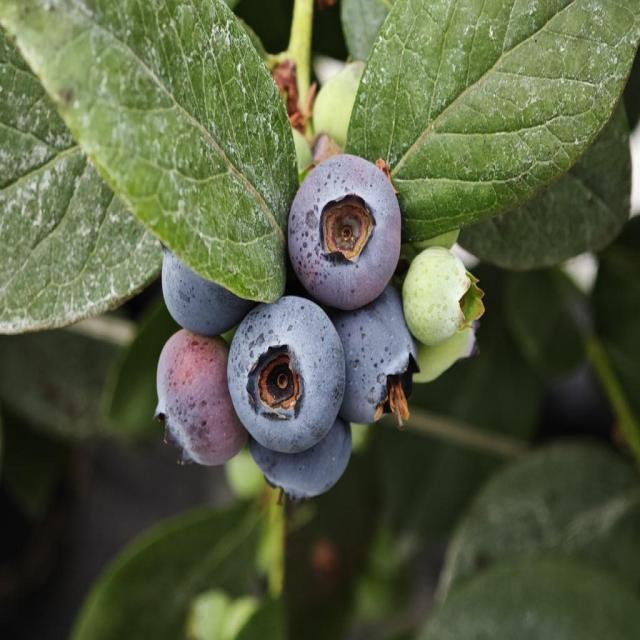RipeBlueBerry: (228, 296, 346, 454), (287, 154, 402, 304)
Semi-RipeBlueBerry: (154, 328, 250, 467)
UnripeBlueBerry: (404, 244, 486, 344)
